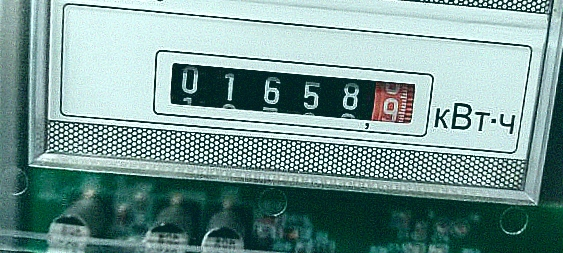0: (177, 62, 201, 96)
1: (221, 70, 237, 102)
5: (301, 78, 322, 111)
6: (261, 73, 283, 106)
8: (340, 79, 361, 113)
9: (379, 94, 399, 122)
screen: (142, 39, 439, 143)
